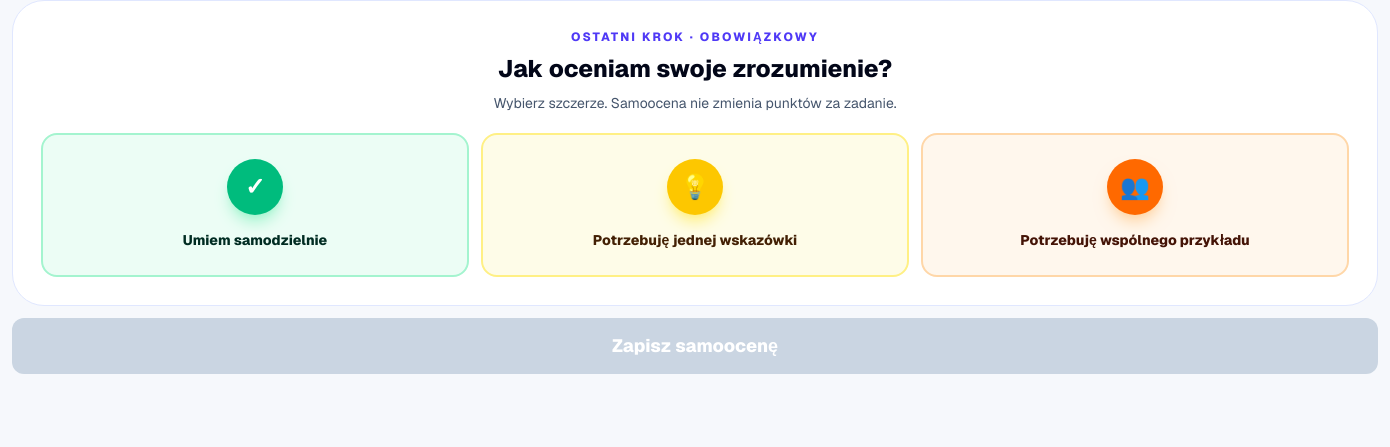
Test case: LiveUnderstandingCheck › zapisuje dopiero po użyciu przycisku i pokazuje potwierdzenie
Click the radio button labelled "Potrzebuję jednej wskazówki" at point(695, 205), box [481,133,909,277]
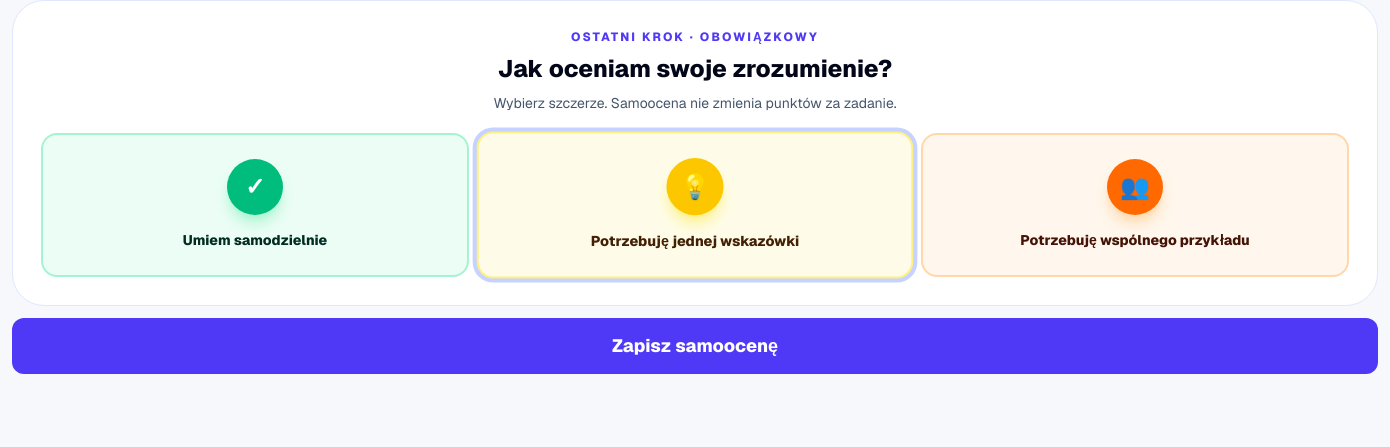
Click the button "Zapisz samoocenę" at point(695, 346), box [12,318,1378,374]
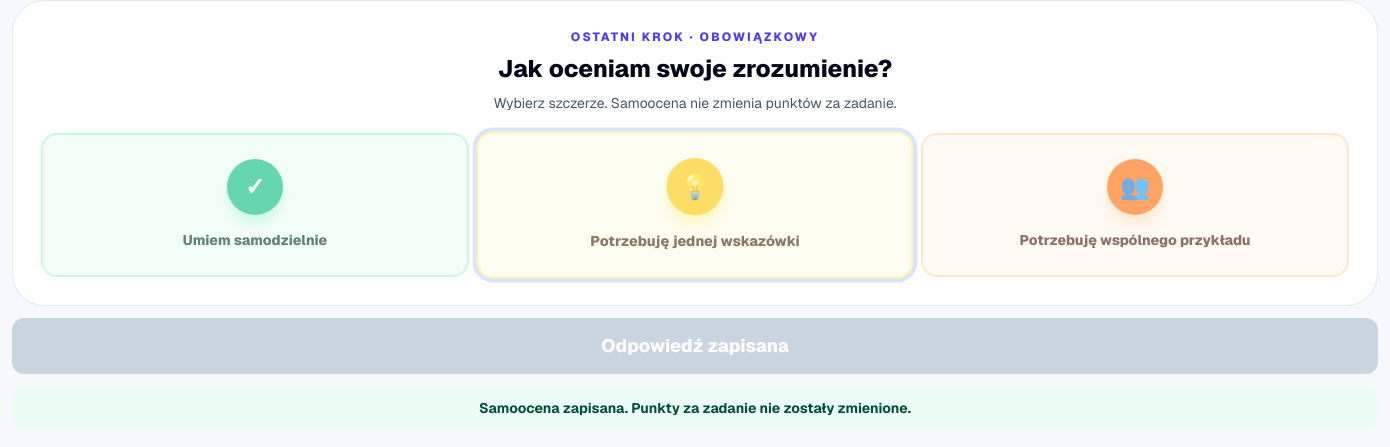
Check: the text "Samoocena zapisana. Punkty za zadanie nie zostały zmienione." is shown, box [12,386,1378,430]
